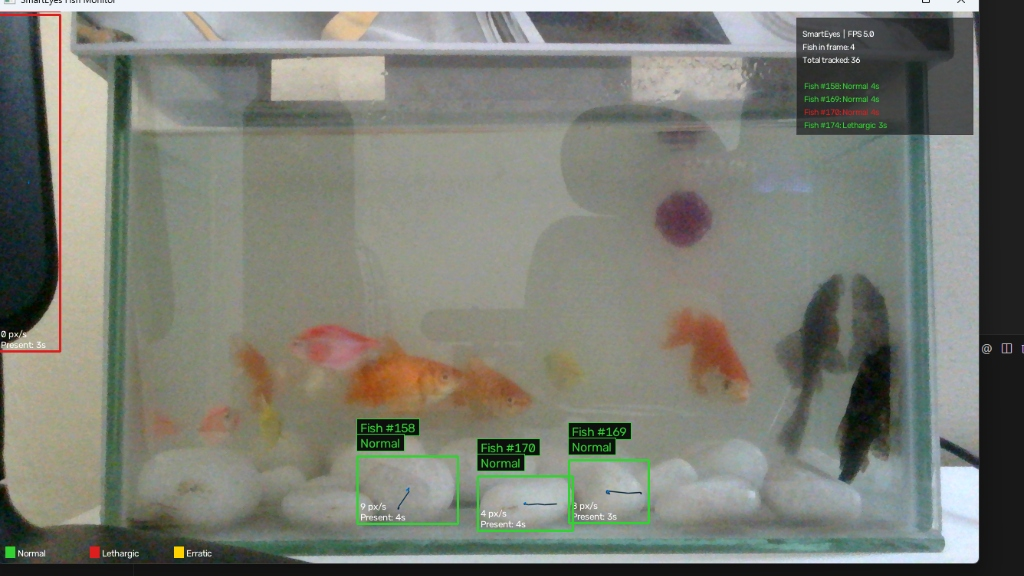fish: (766, 266, 898, 480), (660, 303, 750, 401), (654, 184, 715, 254)
